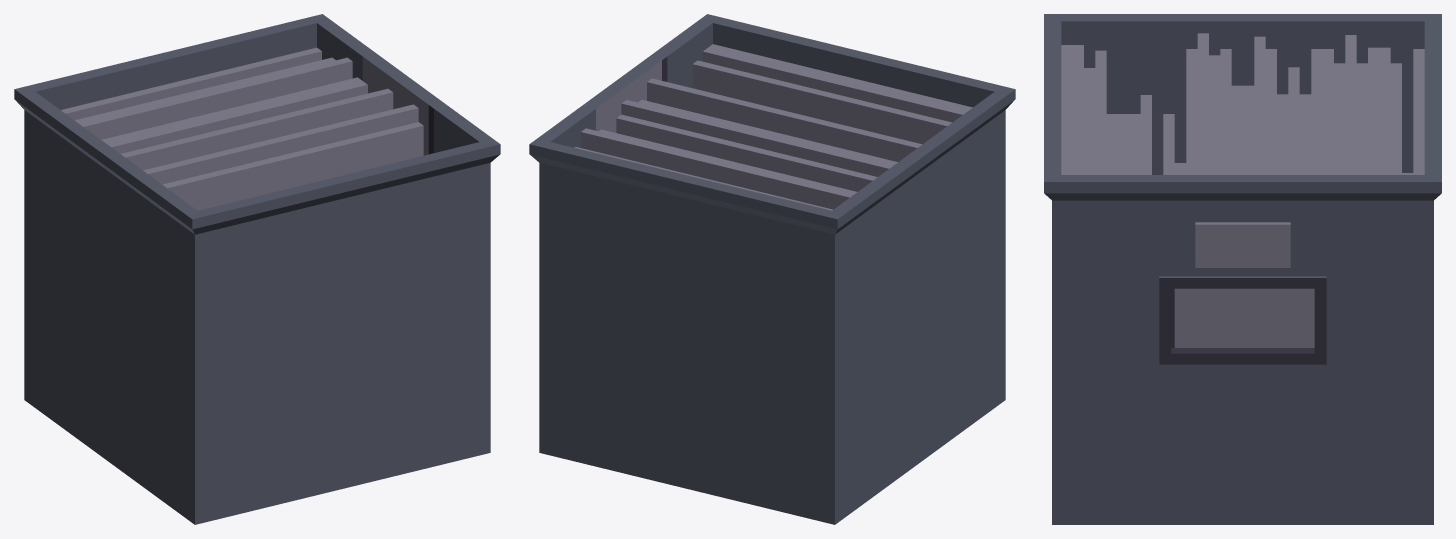
The model's file is Archivador2.fbx.
The picture shows the model from 3 angles, left to right: view 1: azimuth 30°, elevation 25°; view 2: azimuth 150°, elevation 25°; view 3: azimuth 270°, elevation 25°; orthographic projection. The views are drawn at different scales.
Parts seen in each view (by area): view 1: Archivador 2; view 2: Archivador 2; view 3: Archivador 2.
Boxes of the visible parts, box(x1,y1,x2,y2) form: Archivador 2: box(14, 14, 500, 524); Archivador 2: box(529, 14, 1015, 524); Archivador 2: box(1044, 14, 1441, 524).
Bounding box in the file's own units: 119 × 114 × 119.
